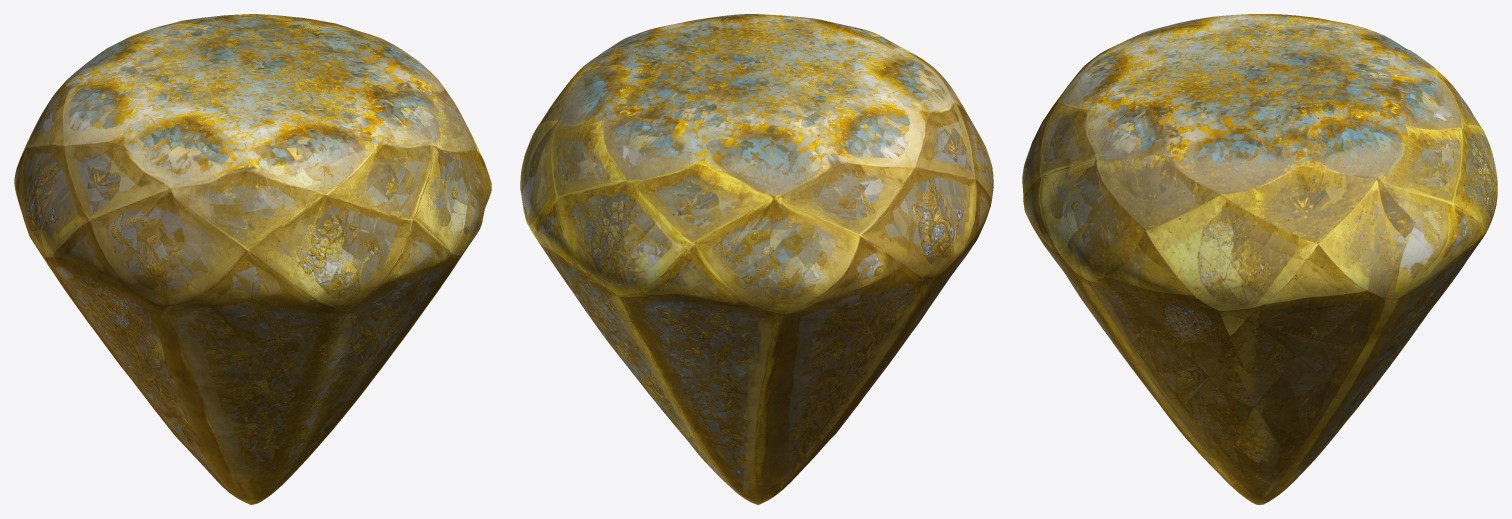
3 views of the same model, side by side, from view 1: azimuth 30°, elevation 25°; view 2: azimuth 150°, elevation 25°; view 3: azimuth 270°, elevation 25° (orthographic).
Size of the model in its own units: 1.18 by 1.2 by 1.17.
Materials: 1 (1 with a texture image).
